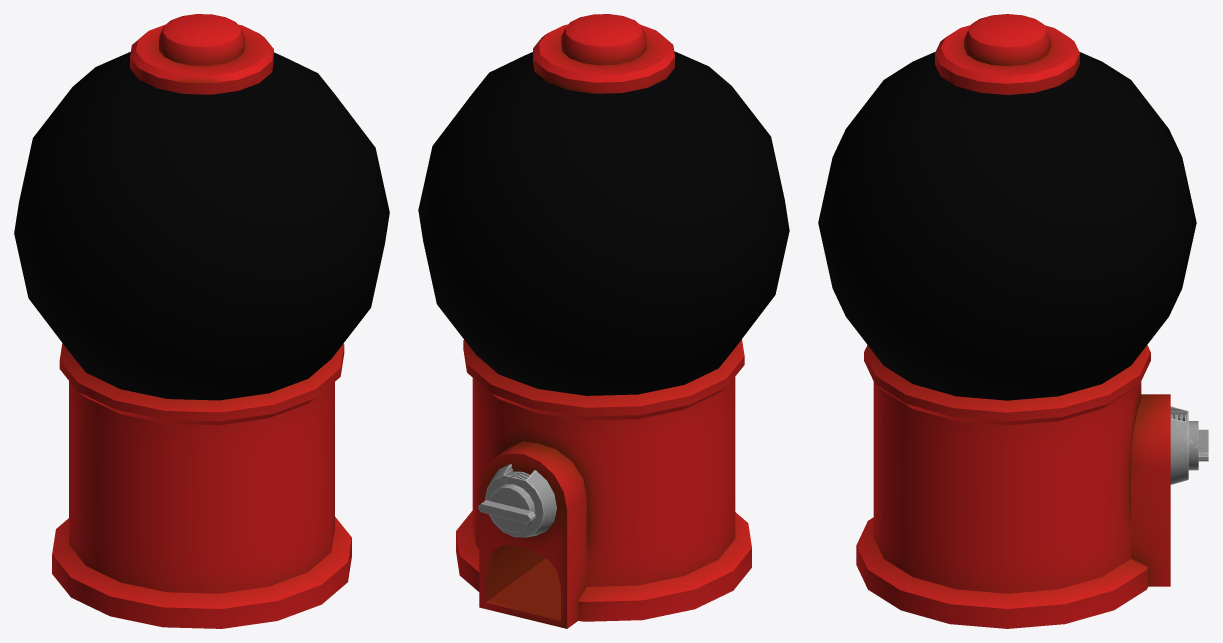
Rendered from mach.fbx.
3 views of the same model, side by side, from view 1: azimuth 30°, elevation 25°; view 2: azimuth 150°, elevation 25°; view 3: azimuth 270°, elevation 25° (orthographic).
Visible parts, largest first — view 1: Sphere.002, 실린더.011, Sphere.001; view 2: Sphere.002, 실린더.011, 실린더.003, Sphere.001, 실린더.001, 실린더.004; view 3: Sphere.002, 실린더.011, Sphere.001, 실린더.003, 실린더.001, 실린더.004.
Boxes of the visible parts, bbox=[...] form: Sphere.002: bbox=[14, 52, 389, 400]; 실린더.011: bbox=[52, 343, 351, 628]; Sphere.001: bbox=[130, 14, 273, 94]; Sphere.002: bbox=[418, 51, 789, 395]; 실린더.011: bbox=[456, 339, 751, 621]; 실린더.003: bbox=[479, 441, 586, 628]; Sphere.001: bbox=[533, 14, 674, 93]; 실린더.001: bbox=[485, 464, 556, 537]; 실린더.004: bbox=[478, 484, 535, 532]; Sphere.002: bbox=[818, 52, 1196, 400]; 실린더.011: bbox=[856, 345, 1150, 628]; Sphere.001: bbox=[935, 14, 1079, 94]; 실린더.003: bbox=[1131, 394, 1170, 586]; 실린더.001: bbox=[1170, 406, 1188, 484]; 실린더.004: bbox=[1188, 421, 1208, 470].
Bounding box in the file's own units: 2758 × 4326 × 2846.
Materials: 1 (1 with a texture image).
